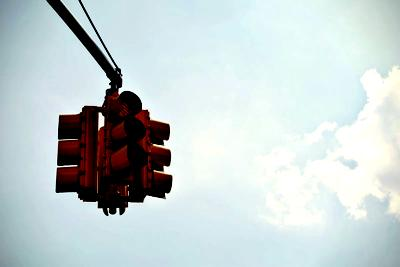International Road Signal Light: (56, 92, 174, 216), (55, 109, 91, 199), (144, 112, 172, 203)
